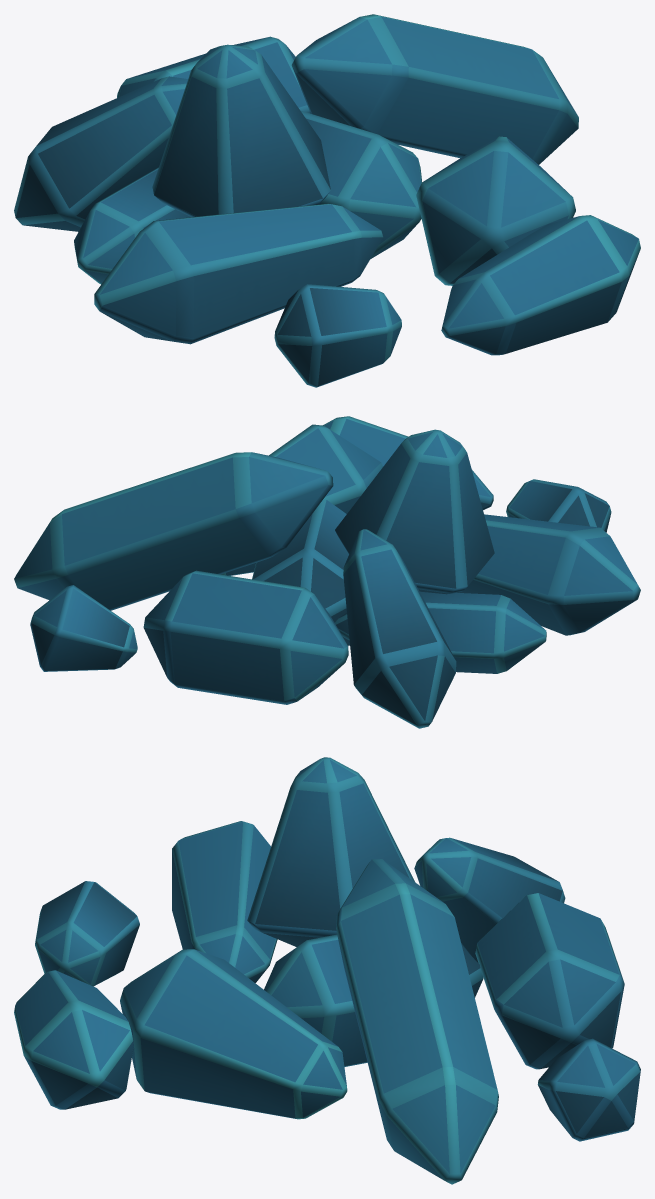
File: christal_saphire_pile.fbx
The picture shows the model from 3 angles, top to bottom: view 1: azimuth 30°, elevation 25°; view 2: azimuth 150°, elevation 25°; view 3: azimuth 270°, elevation 25°; orthographic projection. The views are drawn at different scales.
Visible parts, largest first — view 1: christal_saphire_pile; view 2: christal_saphire_pile; view 3: christal_saphire_pile.
Boxes of the visible parts, x1,y1,x2,y2 form: christal_saphire_pile: (14,14,640,387); christal_saphire_pile: (14,416,640,728); christal_saphire_pile: (14,757,640,1184).
Bounding box in the file's own units: 182 × 69.99 × 169.
Materials: 1 (1 with a texture image).
